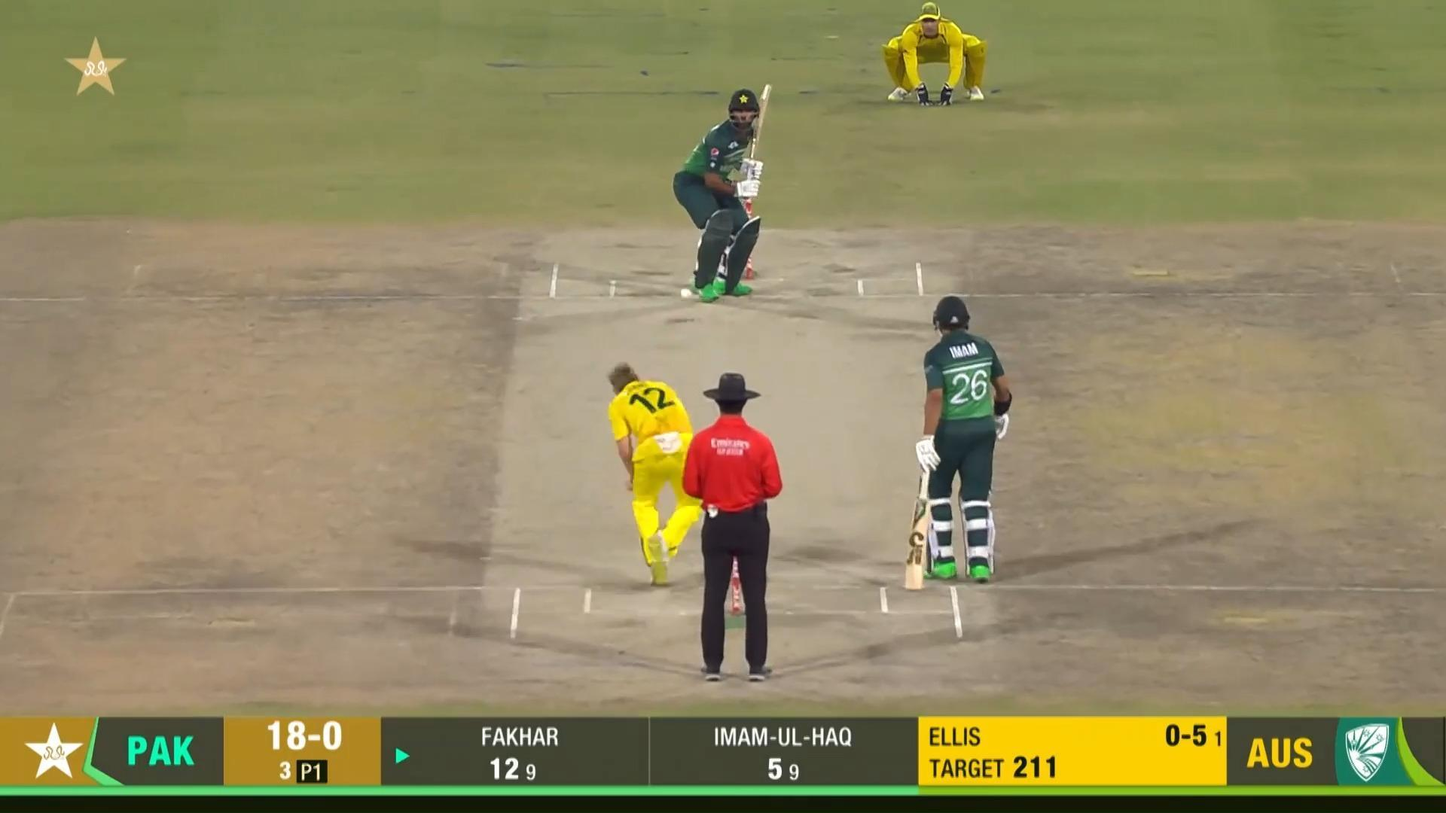BM 1: (672, 84, 772, 303)
BO: (606, 362, 711, 589)
